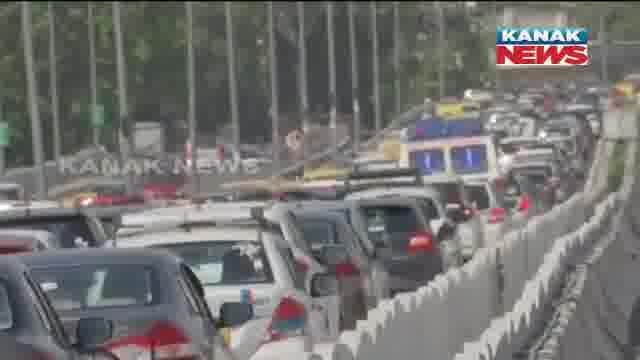AMBULANCE: (395, 117, 493, 172)
